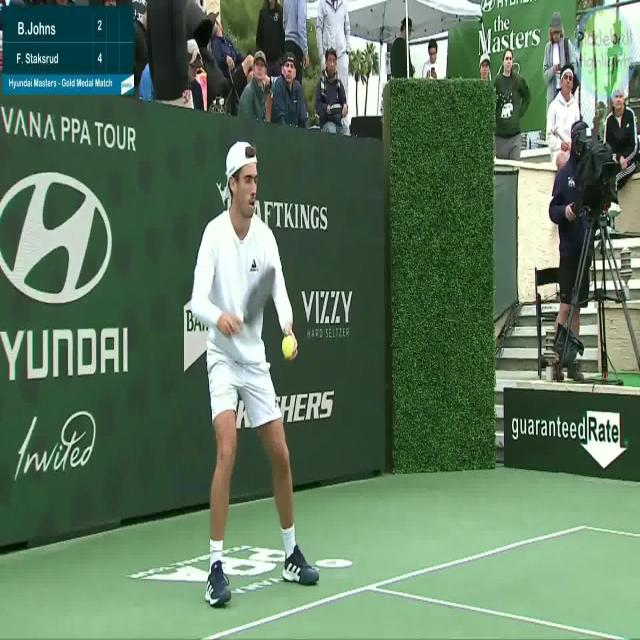ball: (279, 325, 299, 366)
